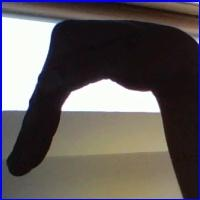A: (8, 18, 183, 177)
